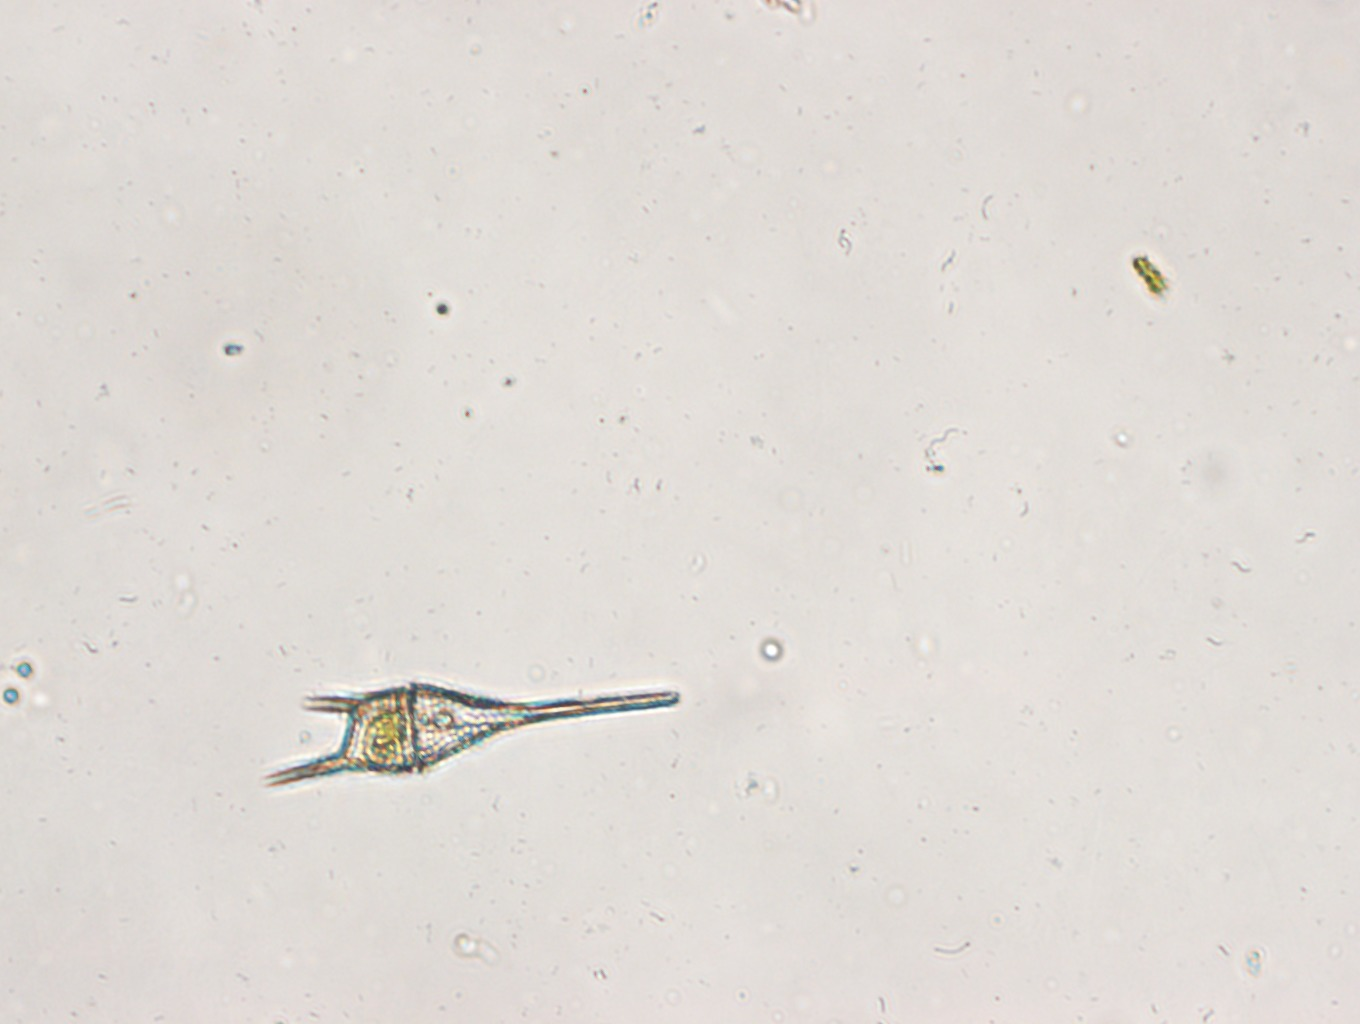ceratium furca: (258, 667, 695, 795)
